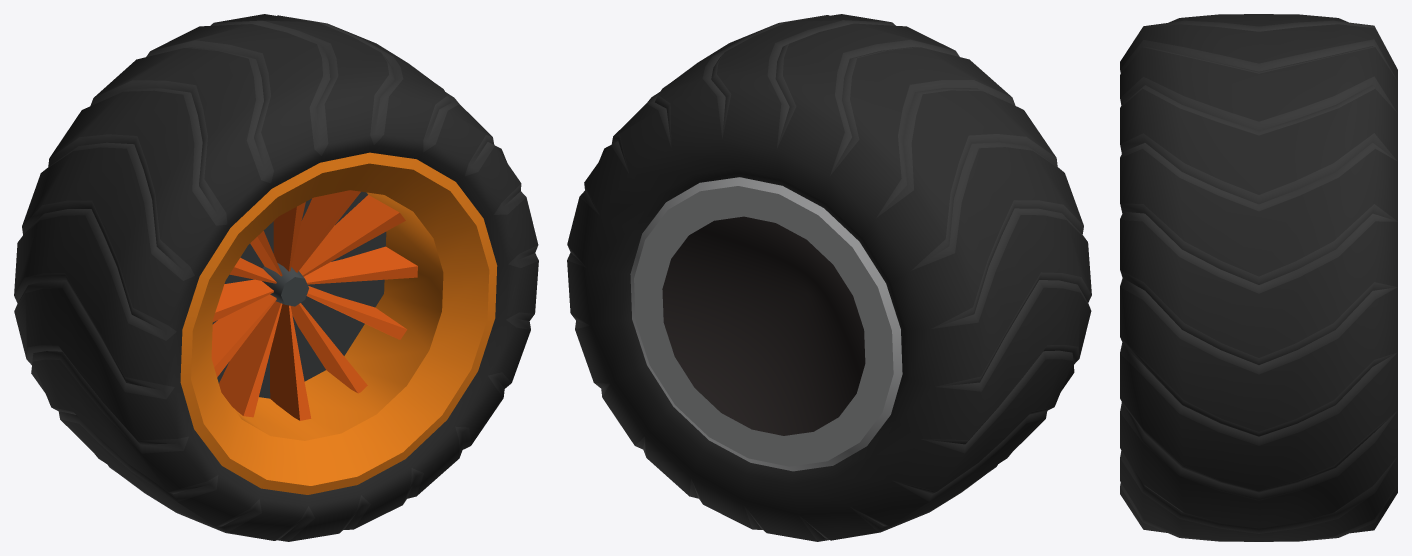
File: Wheel_11.fbx
The picture shows the model from 3 angles, left to right: view 1: azimuth 30°, elevation 25°; view 2: azimuth 150°, elevation 25°; view 3: azimuth 270°, elevation 25°; orthographic projection. The views are drawn at different scales.
Visible parts, largest first — view 1: Wheel_11; view 2: Wheel_11; view 3: Wheel_11.
Part boxes in pixels (x1=…): Wheel_11: x1=14, y1=14, x2=538, y2=541; Wheel_11: x1=567, y1=14, x2=1091, y2=541; Wheel_11: x1=1120, y1=14, x2=1397, y2=541.
Bounding box in the file's own units: 95 × 50 × 95.
